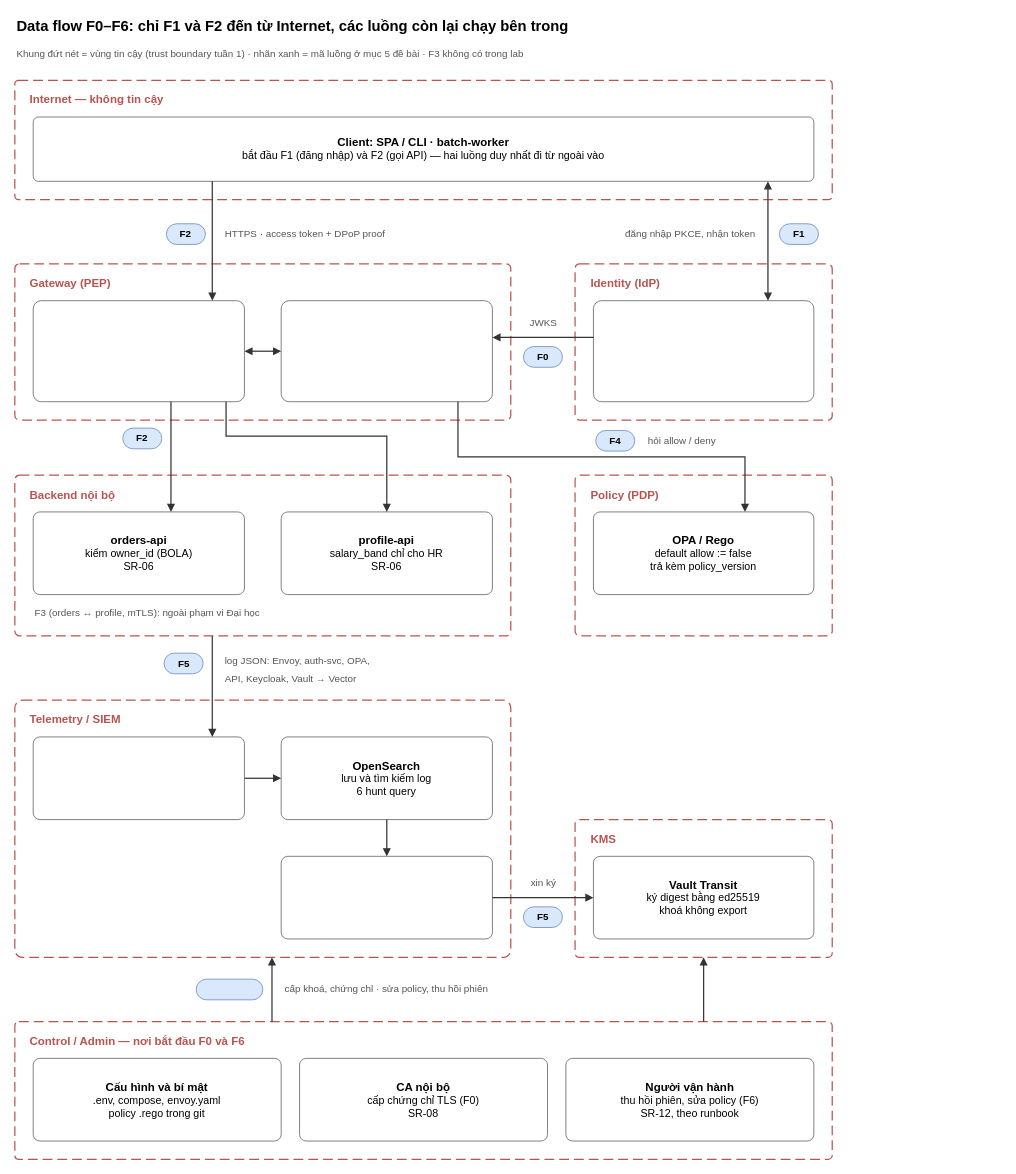
Some shapes in this 1016 by 1174 pixel diagram are drawn without their labels. The shapes that lost their labels are listed below. From the top down, each one's centre as x and y in pixels, then its label:
At point 138,351: "Envoy kết thúc TLS 1.3 gọi auth-svc (ext_authz) xoá header, đặt X-User".
At point 386,351: "auth-svc (Go) kiểm JWT (SR-02) kiểm DPoP (SR-04) lỗi thì chặn (SR-11)".
At point 703,351: "Keycloak PKCE S256 (SR-03) ký token · công bố JWKS gắn cnf.jkt khi có DPoP".
At point 138,778: "Vector bỏ token thô (SR-10) nối hash chain (SR-09)".
At point 386,897: "digester (Go) lấy hash cuối chuỗi mỗi 5 phút".
At point 229,989: "F0 · F6".
